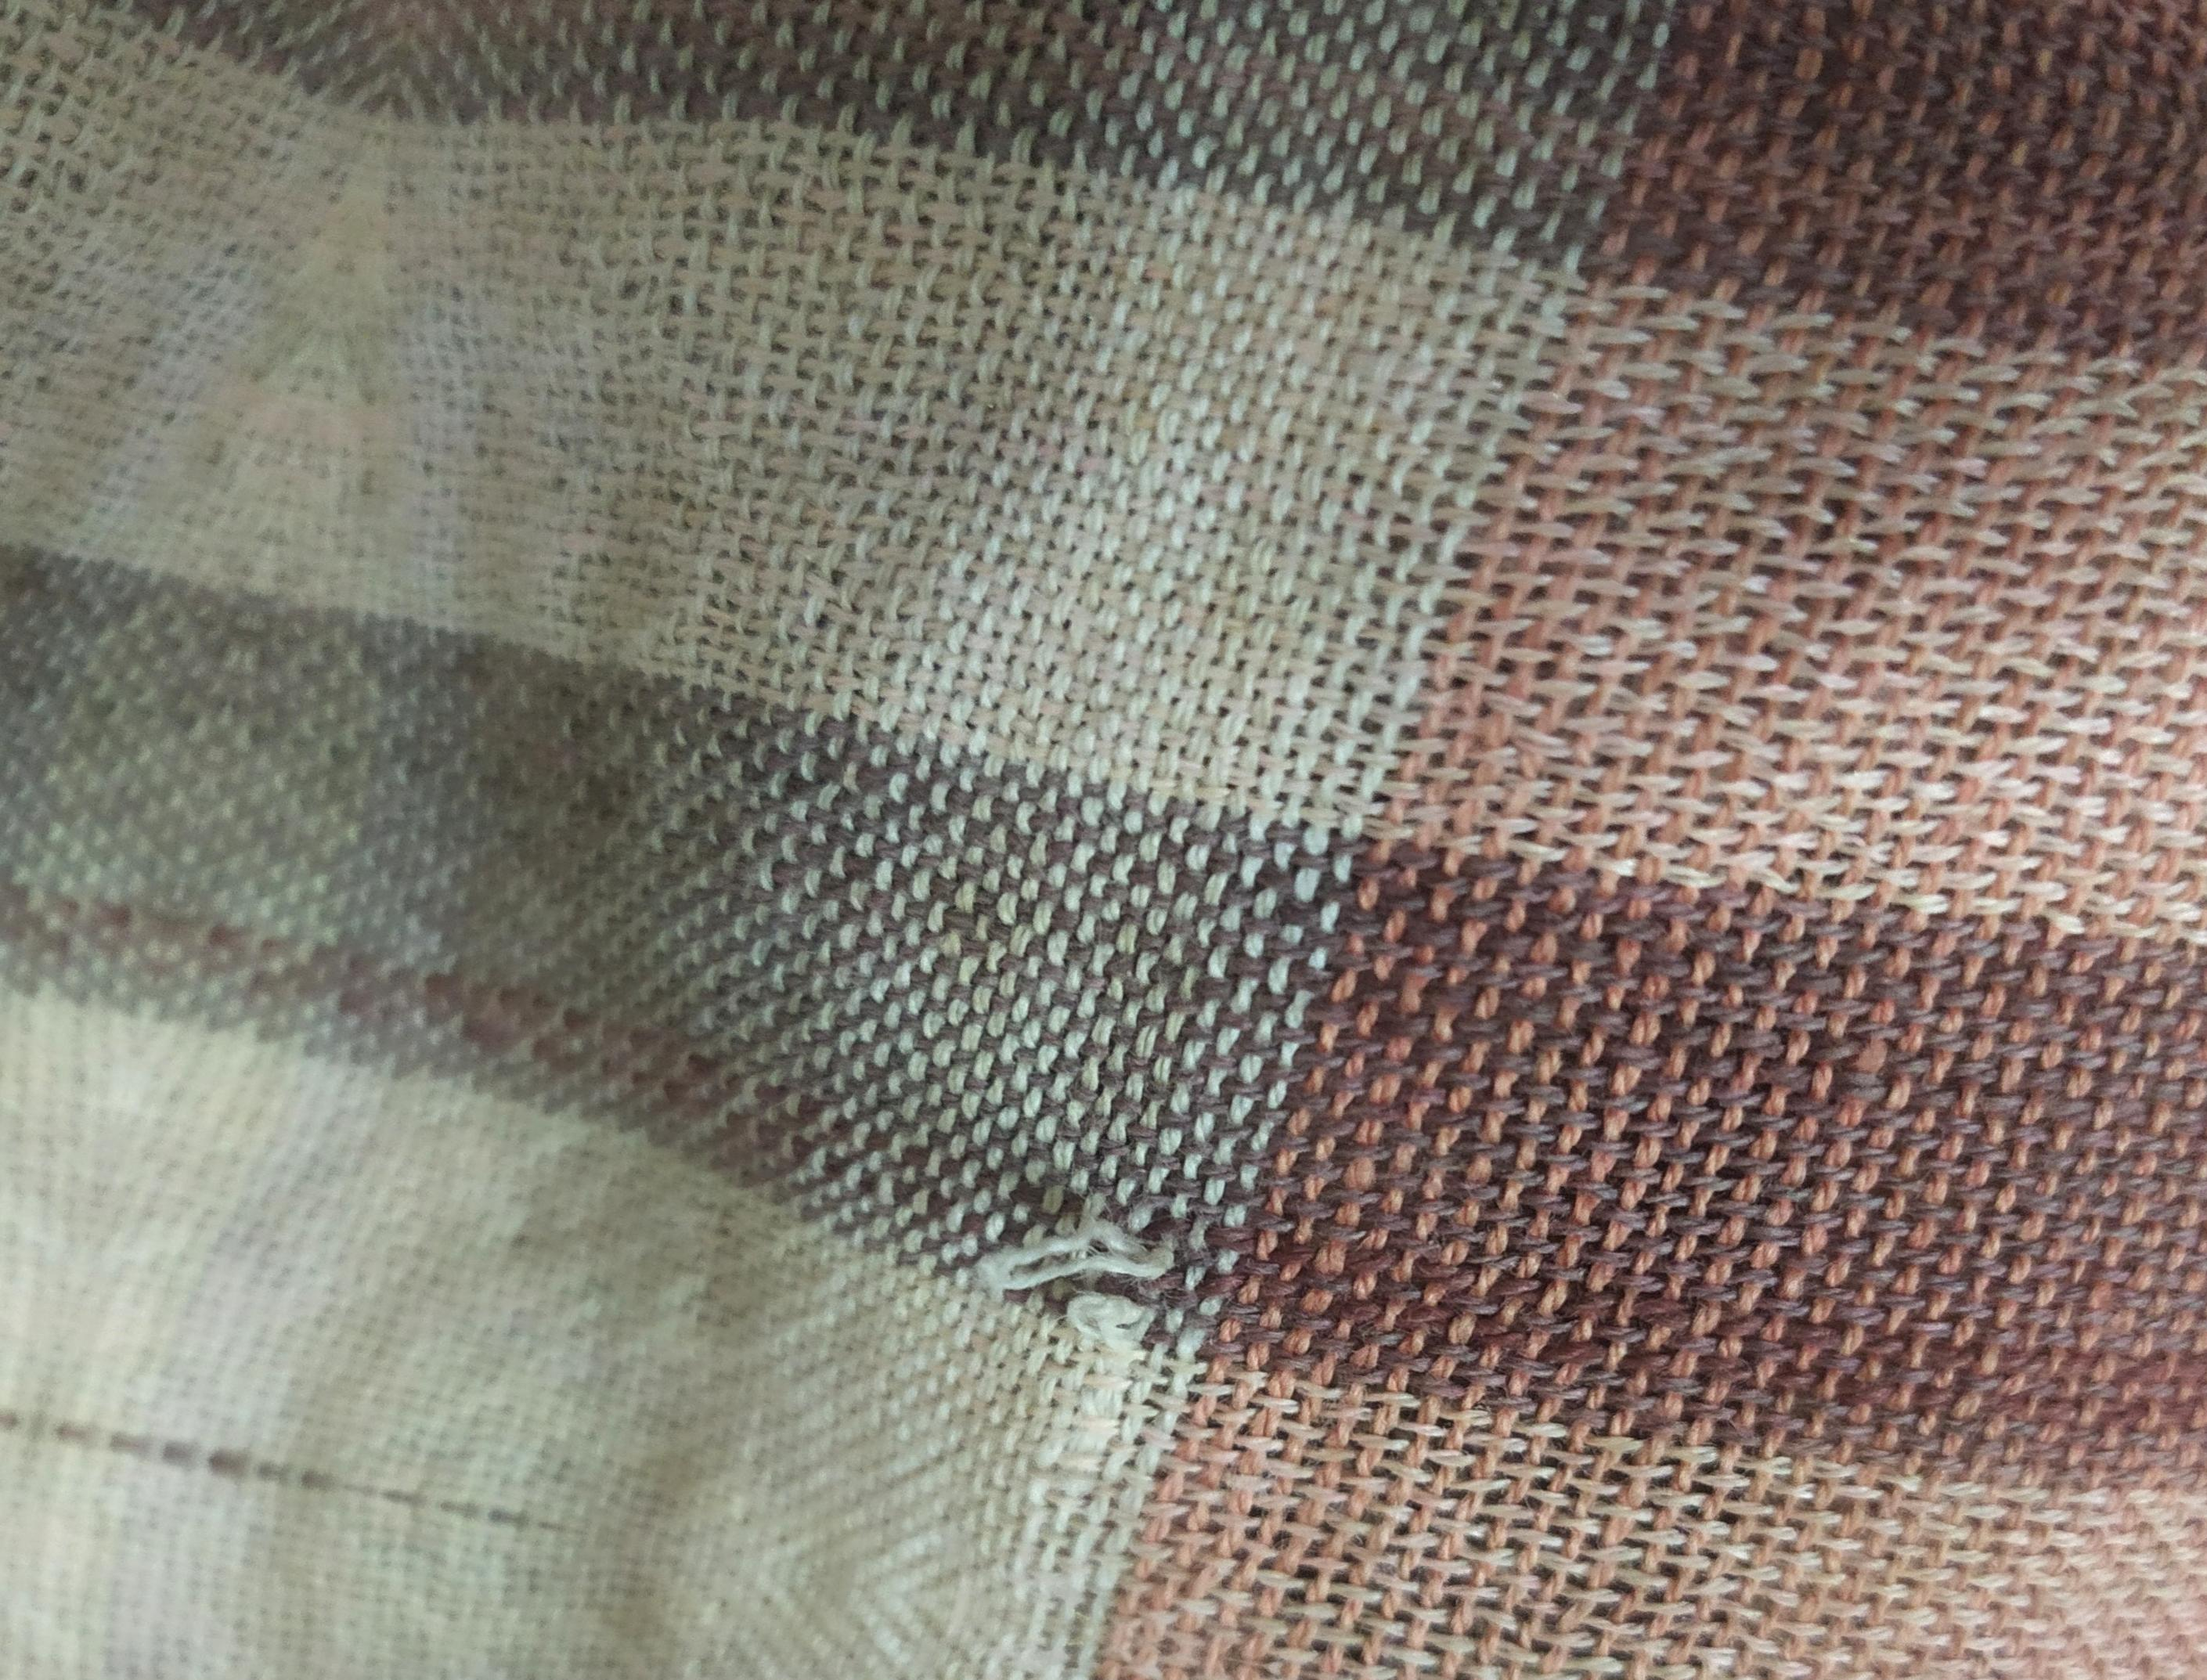snag: (963, 1175, 1219, 1419)
